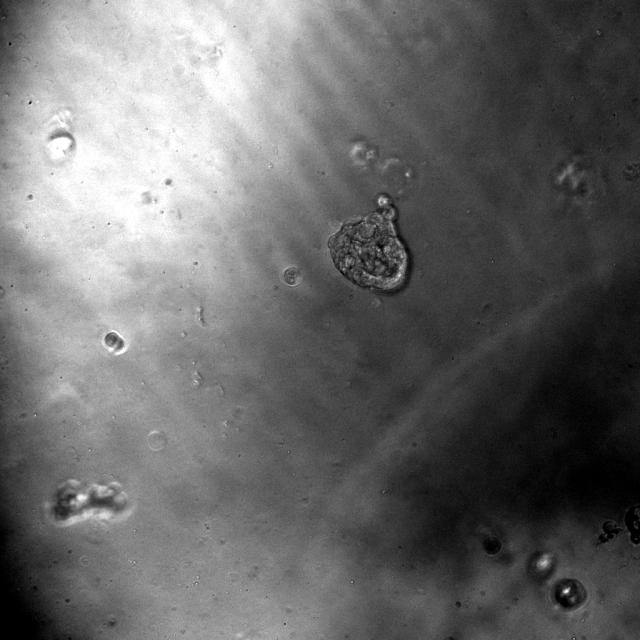organoid: (328, 194, 408, 291), (47, 479, 131, 525), (554, 578, 586, 609), (624, 505, 639, 544), (102, 331, 126, 354), (599, 520, 622, 544), (483, 536, 502, 555), (284, 267, 301, 286)
